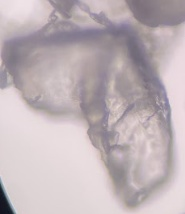microplastic: (1, 24, 174, 209), (1, 20, 82, 89), (123, 1, 185, 29), (76, 1, 116, 28), (47, 1, 80, 20)
